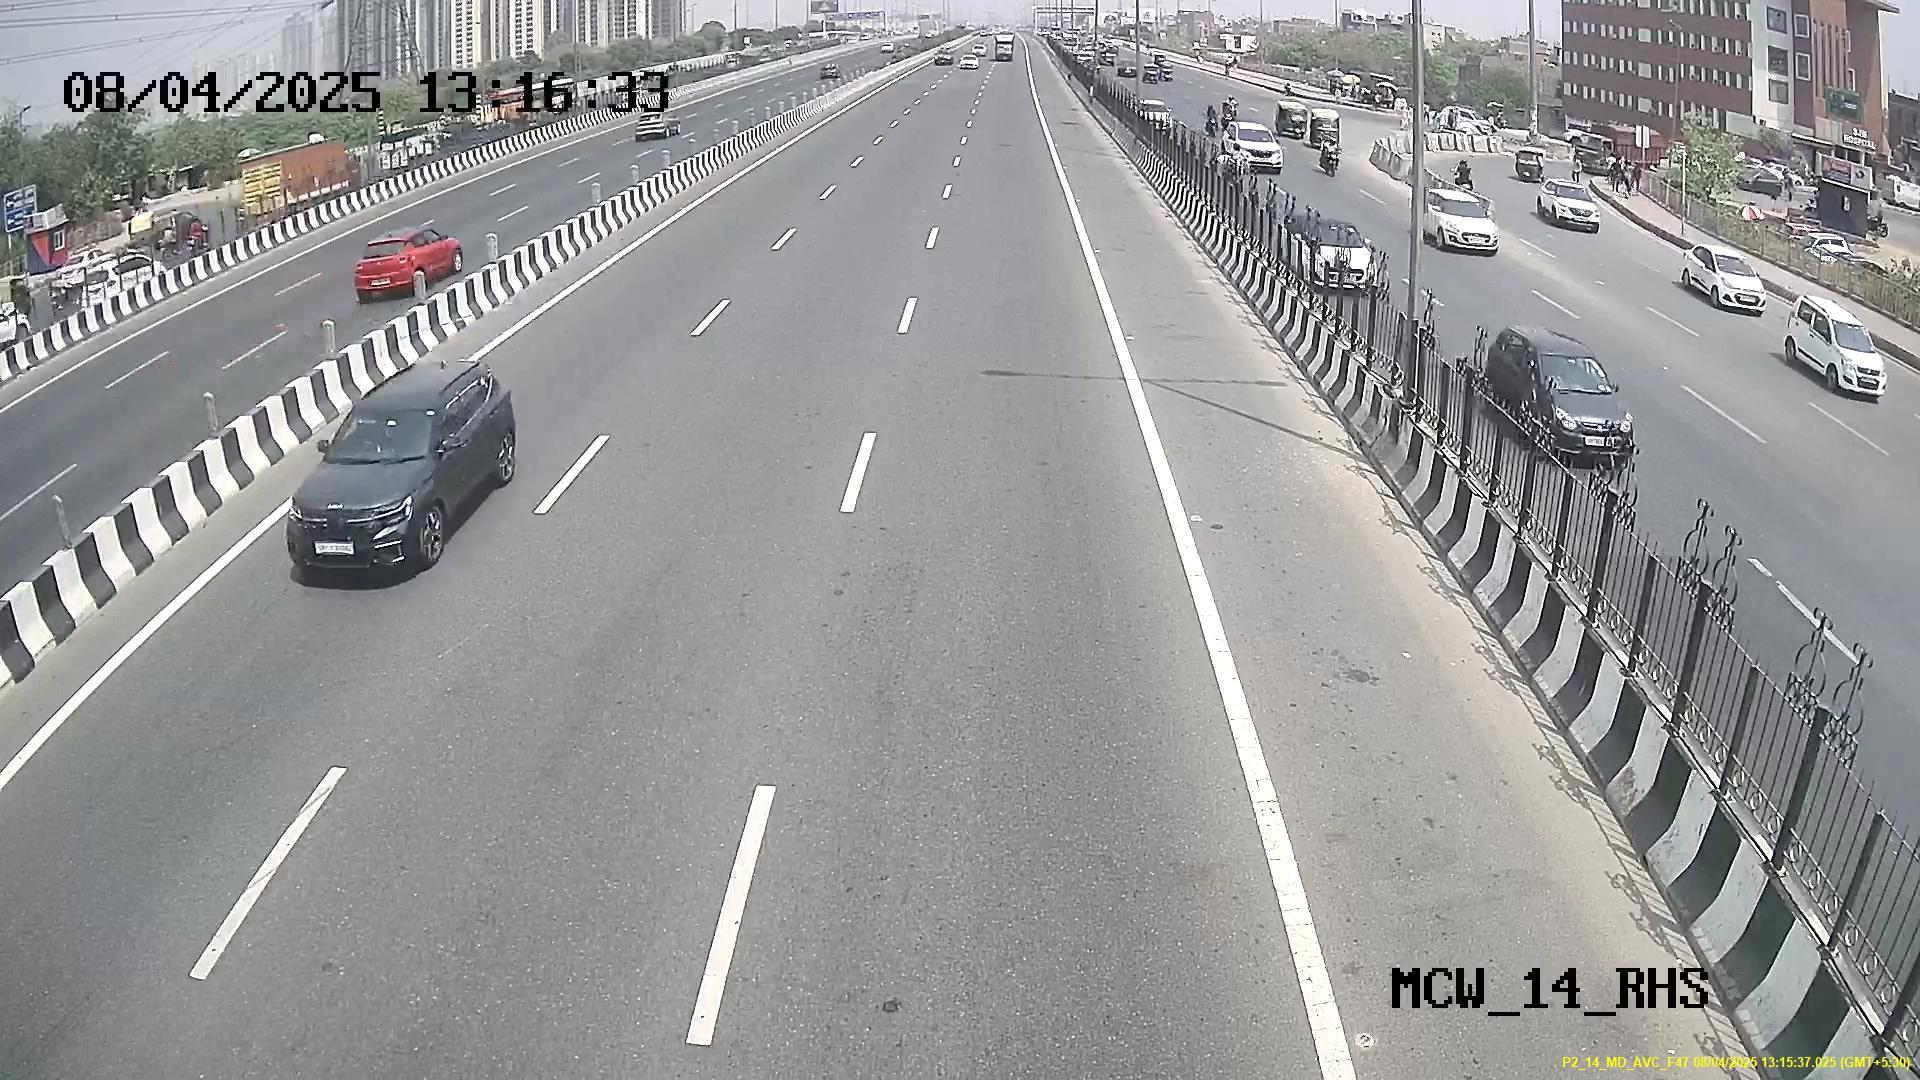car: (281, 380, 476, 576)
